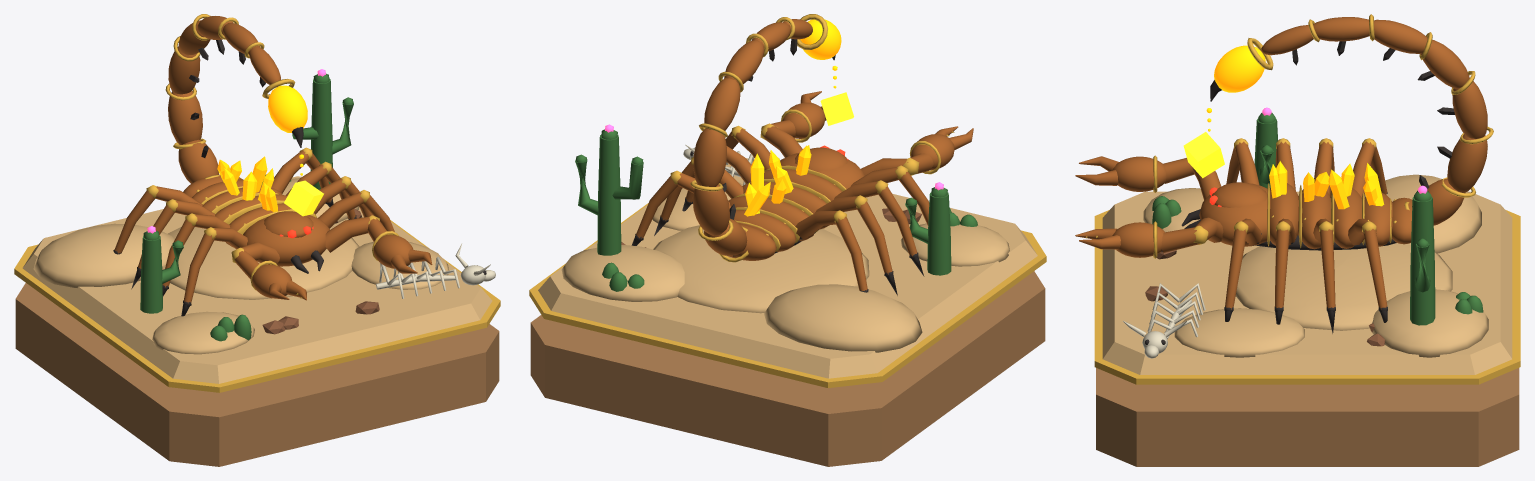
Rendered from SandstingerMine_Roblox.fbx.
3 renders of one model, left to right at view 1: azimuth 30°, elevation 25°; view 2: azimuth 150°, elevation 25°; view 3: azimuth 270°, elevation 25°, orthographic. The views are drawn at different scales.
Parts seen in each view (by area): view 1: DuneSand, Sandstone, BronzeArmour, GoldTrim, Cactus, TopazCrystal, BleachedBone, JointSteel, TopazOre, DesertRock; view 2: DuneSand, Sandstone, BronzeArmour, GoldTrim, Cactus, TopazCrystal, JointSteel, TopazOre; view 3: DuneSand, Sandstone, BronzeArmour, GoldTrim, Cactus, TopazCrystal, BleachedBone, JointSteel, TopazOre, DesertRock.
Part boxes in pixels (x1,y1,x2,y2): DuneSand: (22, 176, 492, 383); Sandstone: (15, 283, 499, 466); BronzeArmour: (114, 16, 432, 303); GoldTrim: (14, 14, 500, 392); Cactus: (140, 73, 353, 341); TopazCrystal: (217, 85, 307, 212); BleachedBone: (376, 243, 495, 298); JointSteel: (113, 39, 486, 316); TopazOre: (284, 180, 323, 216); DesertRock: (262, 208, 379, 334); DuneSand: (538, 158, 1037, 378); Sandstone: (530, 271, 1045, 466); BronzeArmour: (636, 19, 973, 290); GoldTrim: (529, 14, 1046, 388); Cactus: (575, 129, 977, 291); TopazCrystal: (744, 19, 841, 216); JointSteel: (631, 39, 932, 295); TopazOre: (820, 92, 853, 125); DuneSand: (1102, 174, 1512, 374); Sandstone: (1096, 368, 1519, 466); BronzeArmour: (1075, 17, 1487, 309); GoldTrim: (1085, 14, 1520, 384); Cactus: (1152, 113, 1483, 325); TopazCrystal: (1214, 45, 1384, 209); BleachedBone: (1123, 283, 1205, 358); JointSteel: (1145, 41, 1454, 344); TopazOre: (1183, 132, 1224, 178); DesertRock: (1145, 250, 1385, 346).
Size of the model in its own units: 1277 by 1181 by 1315.
